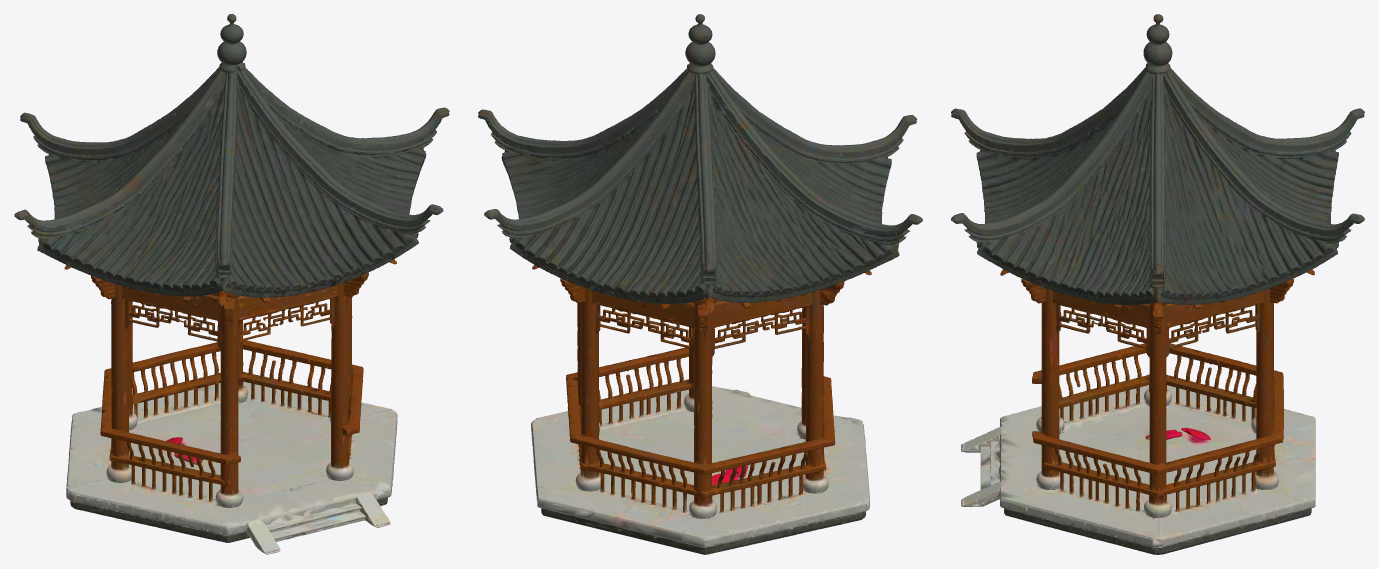
Rendered from ZhongShiLiangTing.glb.
3 renders of one model, left to right at view 1: azimuth 30°, elevation 25°; view 2: azimuth 150°, elevation 25°; view 3: azimuth 270°, elevation 25°, orthographic. The views are drawn at different scales.
Parts seen in each view (by area): view 1: tripo_node_efa1f060-d9f2-4cd5-8fd5-e0b0b09e7b4c; view 2: tripo_node_efa1f060-d9f2-4cd5-8fd5-e0b0b09e7b4c; view 3: tripo_node_efa1f060-d9f2-4cd5-8fd5-e0b0b09e7b4c.
Boxes of the visible parts, x1,y1,x2,y2 form: tripo_node_efa1f060-d9f2-4cd5-8fd5-e0b0b09e7b4c: (14, 14, 449, 554); tripo_node_efa1f060-d9f2-4cd5-8fd5-e0b0b09e7b4c: (478, 14, 922, 554); tripo_node_efa1f060-d9f2-4cd5-8fd5-e0b0b09e7b4c: (951, 14, 1364, 554).
Size of the model in its own units: 0.9799 by 0.9808 by 0.7958.
1 material, 1 textured.
